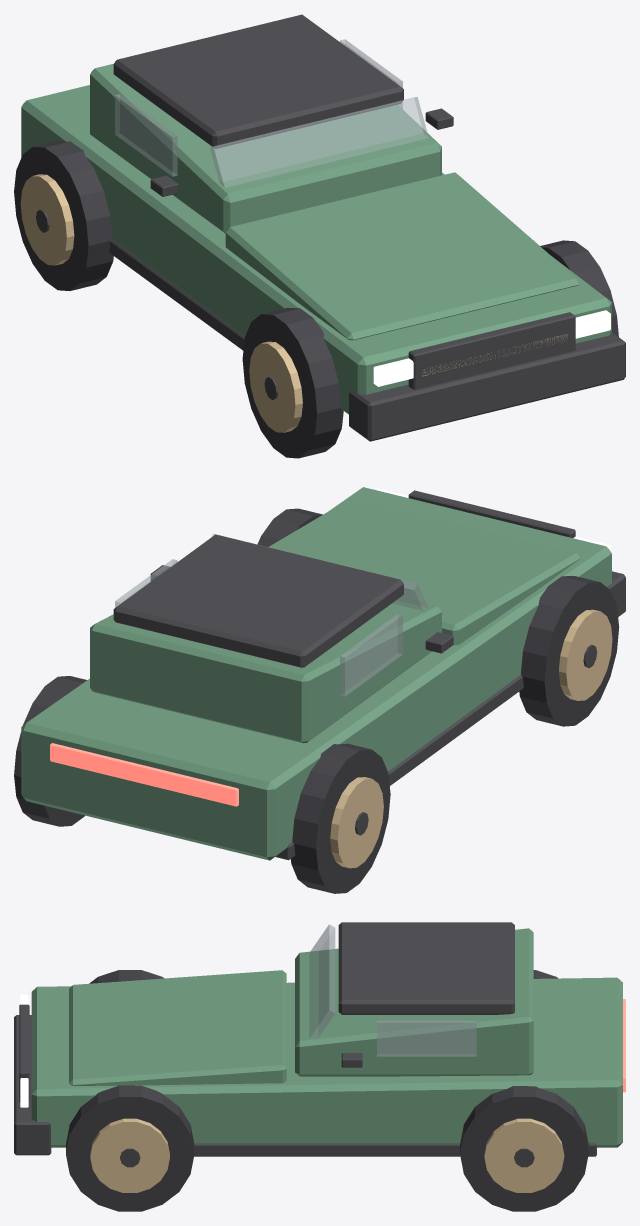
The model's file is coupe_uncommon.glb.
3 renders of one model, top to bottom at view 1: azimuth 30°, elevation 25°; view 2: azimuth 150°, elevation 25°; view 3: azimuth 270°, elevation 25°, orthographic. The views are drawn at different scales.
Visible parts, largest first — view 1: Hood, Body, Cabin, Roof, Bumper, Windshield, FLTire, RLTire, Grille, RLRim, FLRim, SideGlass.001 (+4 smaller); view 2: Body, Cabin, Roof, Hood, FLTire, RLTire, Tail, RLRim, FLRim, SideGlass.001, RRTire, Skirt (+3 smaller); view 3: Body, Hood, Cabin, Roof, FRTire, RRTire, RRRim, FRRim, Skirt, SideGlass, Windshield, Bumper (+2 smaller).
Boxes of the visible parts, box(x1,y1,x2,y2) form: Hood: box(225, 172, 580, 340); Body: box(21, 85, 611, 414); Cabin: box(90, 63, 441, 233); Roof: box(113, 14, 403, 148); Bumper: box(349, 332, 625, 441); Windshield: box(210, 97, 428, 187); FLTire: box(242, 308, 343, 458); RLTire: box(14, 141, 113, 290); Grille: box(408, 312, 575, 389); RLRim: box(20, 174, 74, 265); FLRim: box(249, 341, 302, 432); SideGlass.001: box(115, 94, 177, 176); Body: box(21, 487, 611, 860); Cabin: box(90, 597, 441, 742); Roof: box(113, 534, 403, 667); Hood: box(268, 498, 580, 645); FLTire: box(519, 575, 619, 726); RLTire: box(290, 743, 390, 893); Tail: box(50, 743, 238, 806); RLRim: box(330, 777, 383, 868); FLRim: box(558, 609, 612, 700); SideGlass.001: box(340, 614, 402, 696); RRTire: box(14, 676, 86, 826); Skirt: box(275, 675, 523, 860); Body: box(31, 977, 622, 1147); Hood: box(69, 970, 286, 1085); Cabin: box(295, 928, 533, 1076); Roof: box(338, 922, 514, 1014); FRTire: box(66, 1085, 194, 1211); RRTire: box(460, 1086, 588, 1211); RRRim: box(484, 1118, 564, 1192); FRRim: box(90, 1118, 169, 1192); Skirt: box(194, 1143, 596, 1156); SideGlass: box(377, 1020, 476, 1056); Windshield: box(309, 924, 335, 1038); Bumper: box(14, 1015, 51, 1155).
Bounding box in the file's own units: 1.54 × 0.9953 × 2.95.
